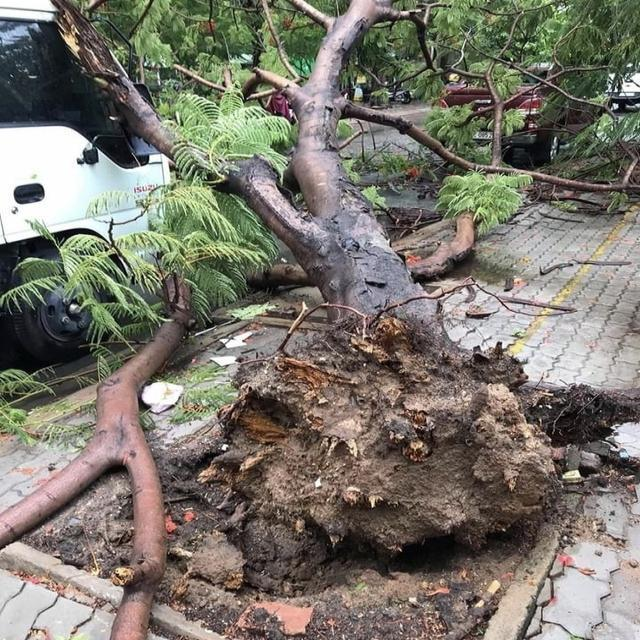fallen_object: (118, 0, 619, 568)
